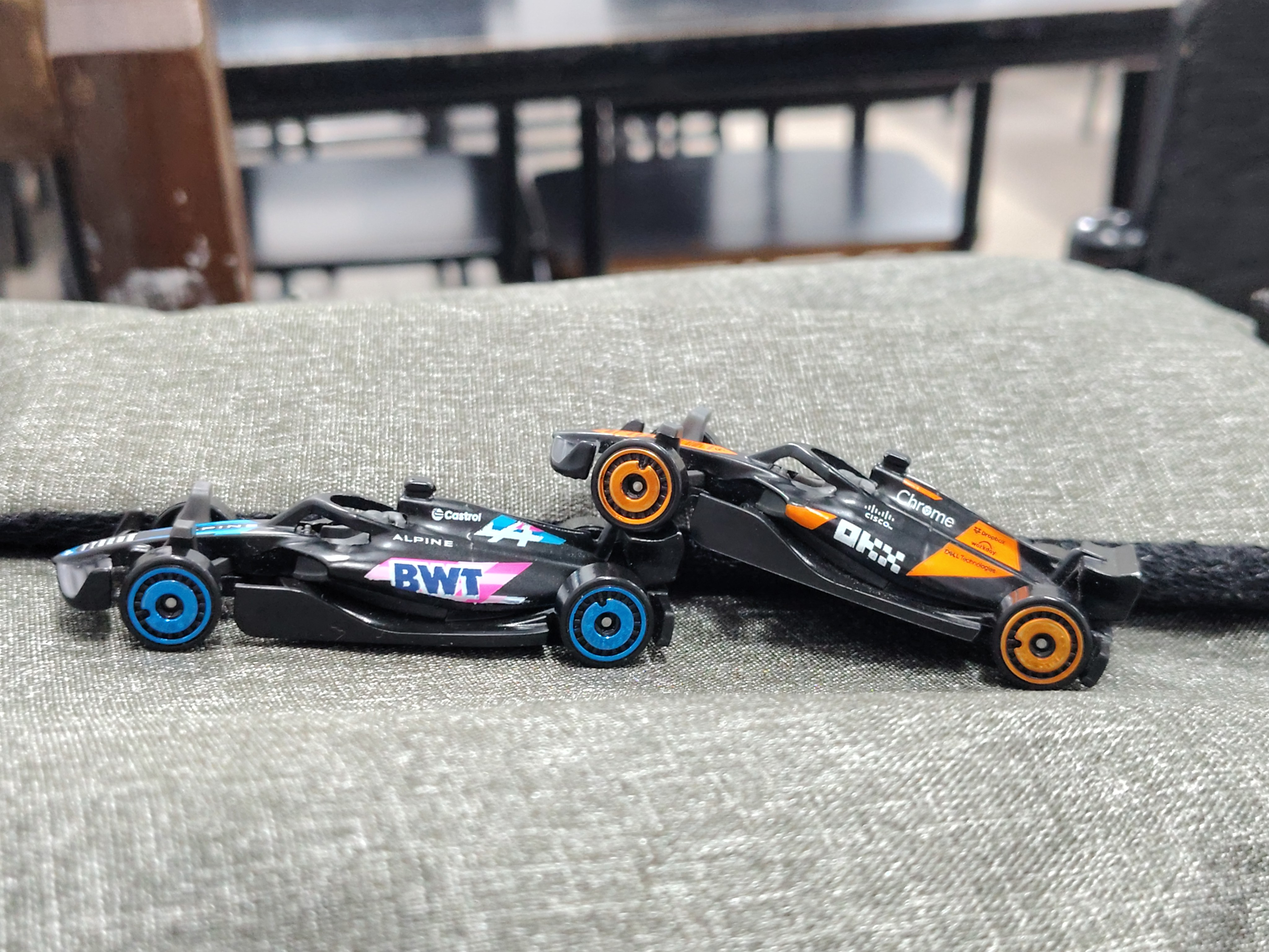Alpine A524: (39, 420, 689, 716)
McLaren MCL40: (534, 372, 1170, 693)
